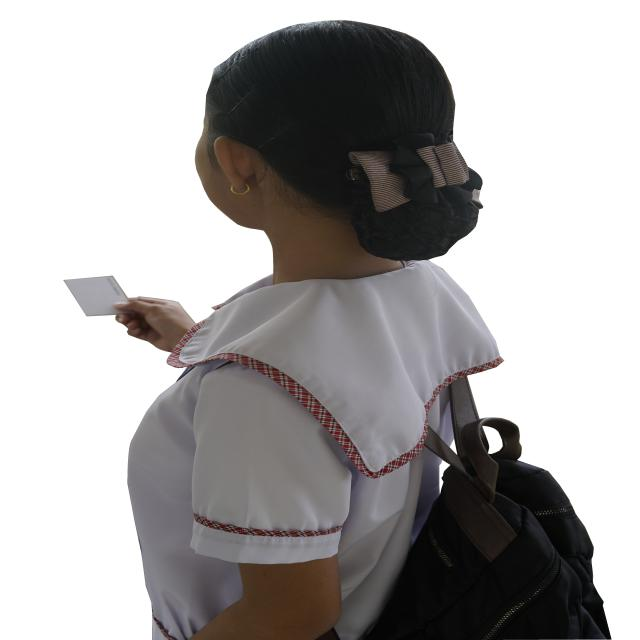pologirl: (129, 261, 503, 640)
